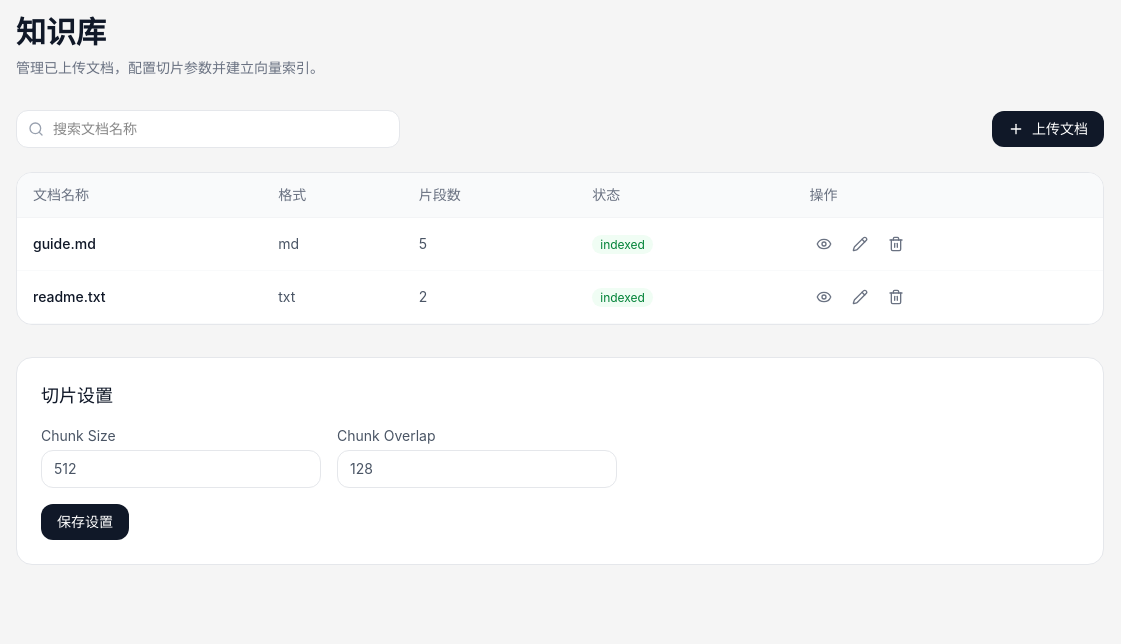
it: KnowledgePage › 确认后删除文档并提示成功
Step 1. Click the button titled "删除" in the row of "guide.md" → x=896, y=244, box [882,230,910,258]
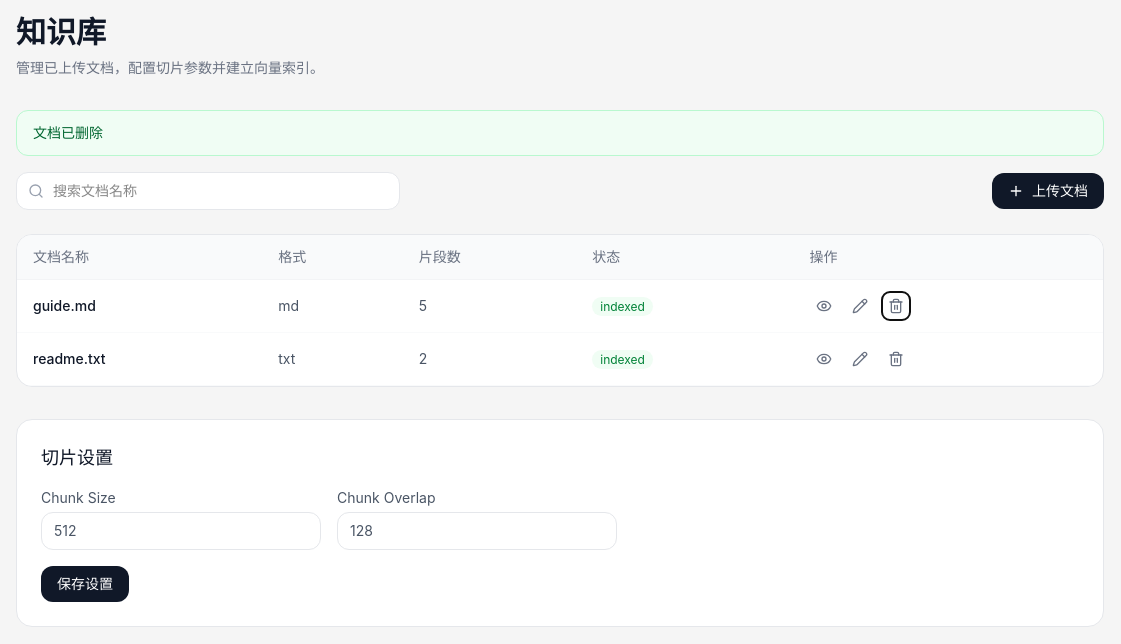
Result: the text "文档已删除" is shown at [16,110,1104,156]
